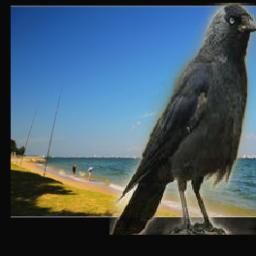Crow: (111, 3, 256, 235)
